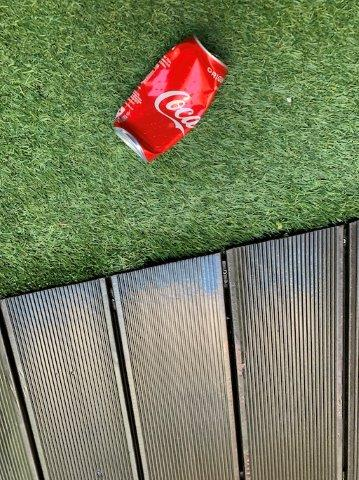kaleng: (115, 36, 226, 162)
